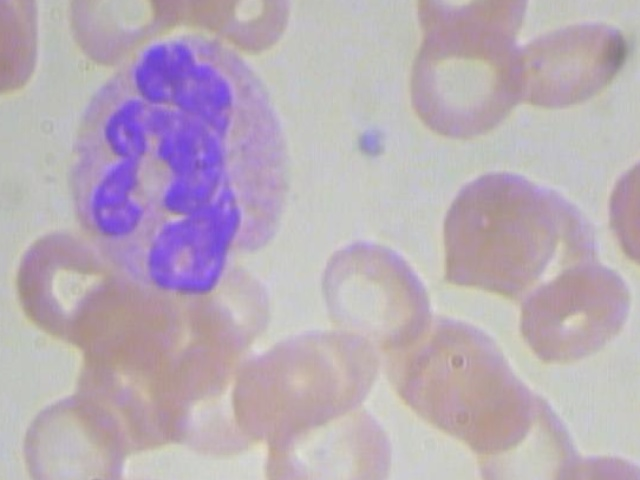Platelets: (350, 121, 394, 162)
RBC: (432, 157, 568, 304), (396, 20, 532, 146), (307, 230, 442, 356), (450, 376, 598, 480), (507, 1, 640, 116), (517, 250, 638, 363), (248, 391, 395, 480), (4, 389, 140, 480), (54, 0, 182, 73), (602, 139, 640, 288)
WBC: (40, 30, 315, 307)
